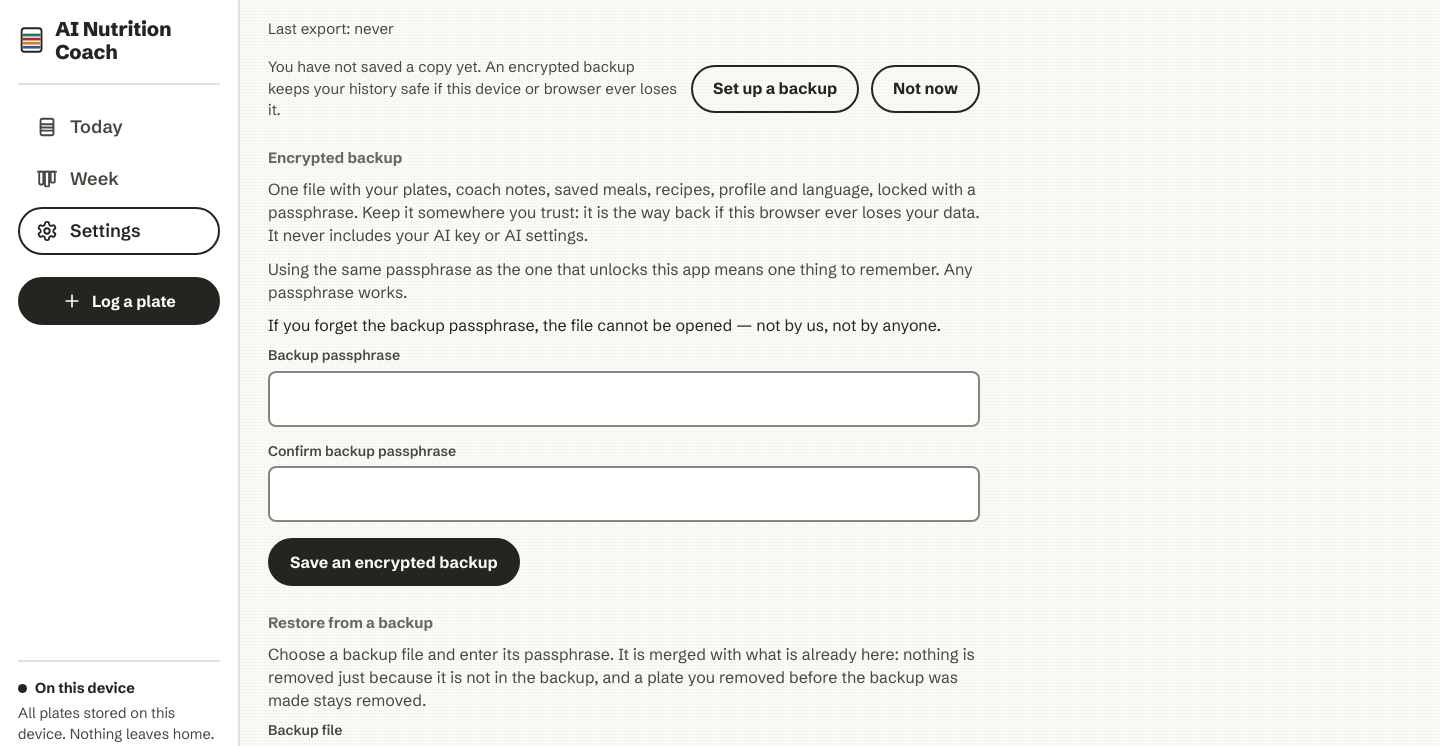
Your data: save an encrypted backup › a cipher that cannot run is one calm line
(page scrolled)
Clear the password field labelled "Backup passphrase" at (624, 399), box [270,373,978,425]
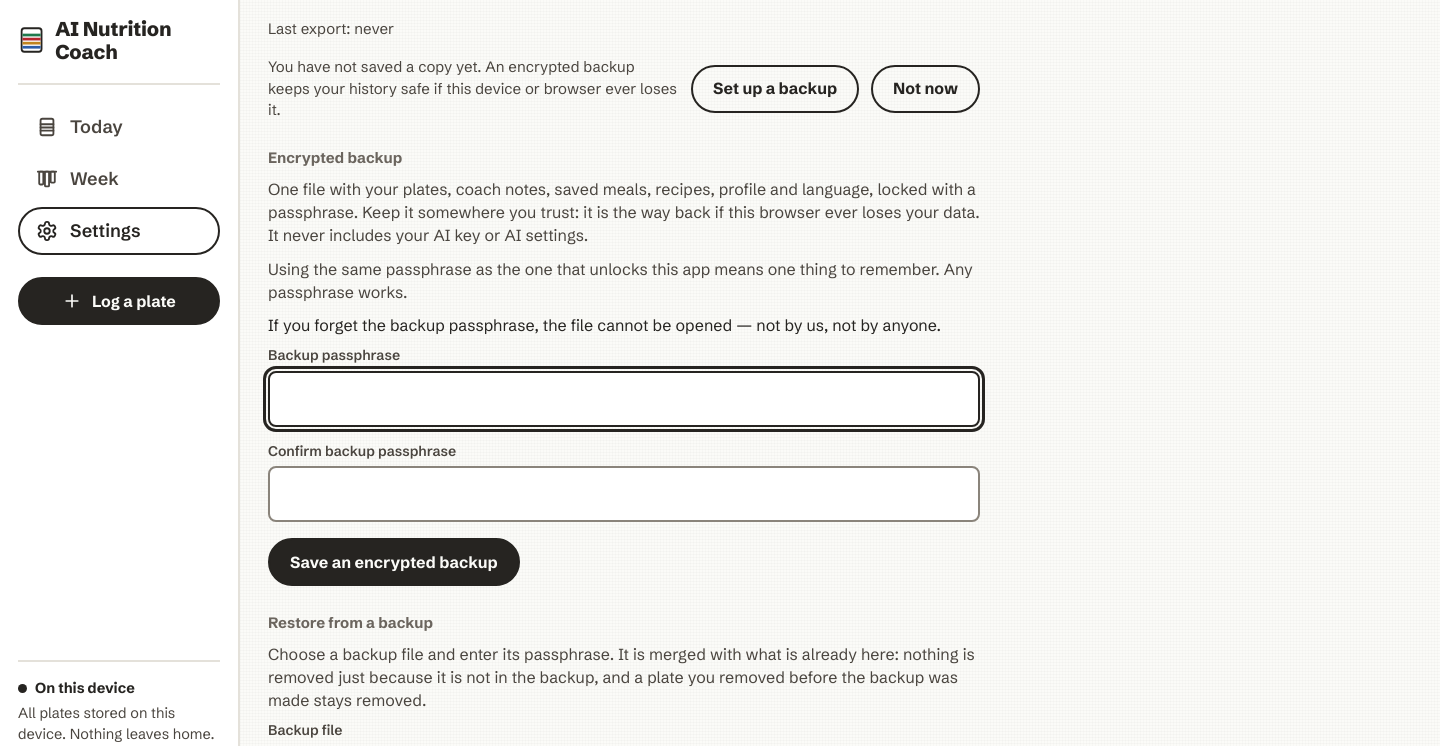
Clear the password field labelled "Confirm backup passphrase" at (624, 494), box [270,468,978,520]
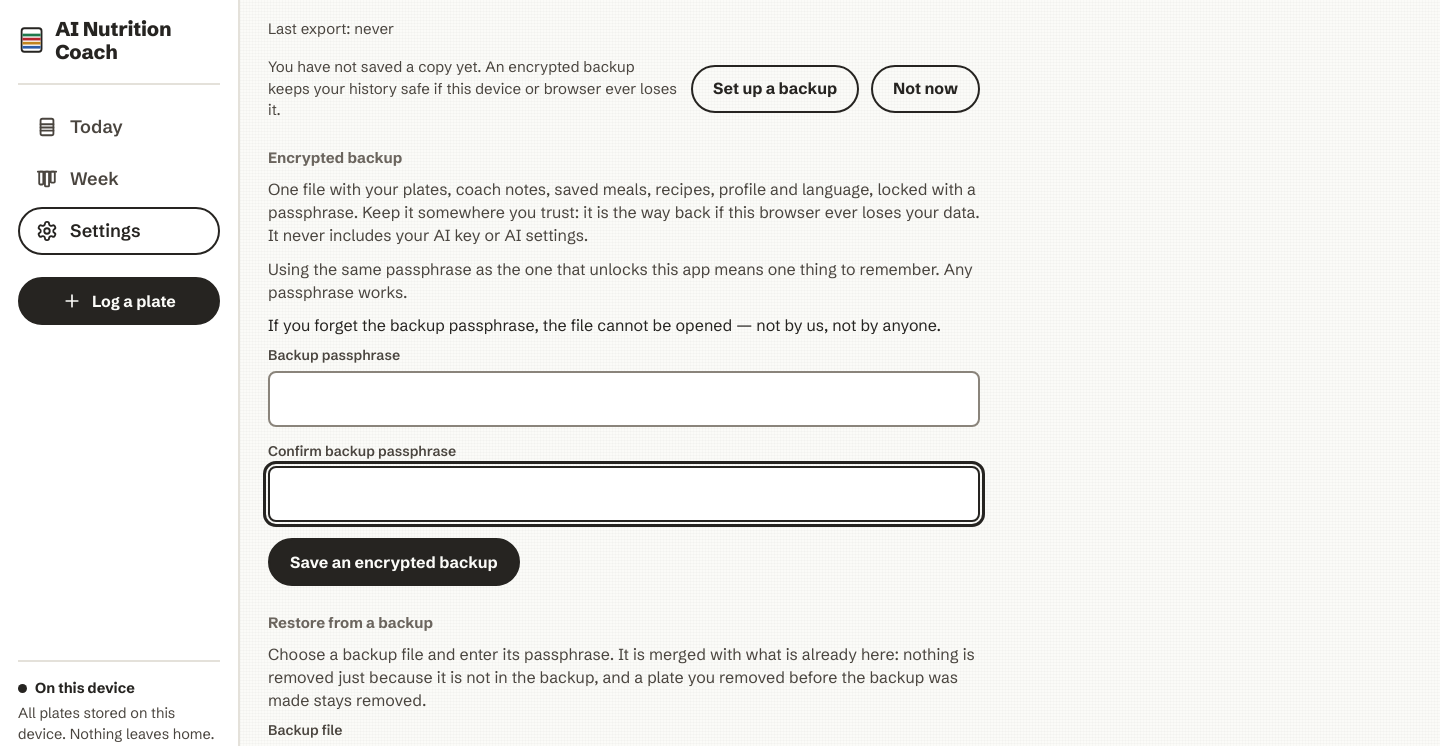
Type "a backup passphrase" into the password field labelled "Backup passphrase".
click(624, 399); type("a backup passphrase")  # box [270,373,978,425]
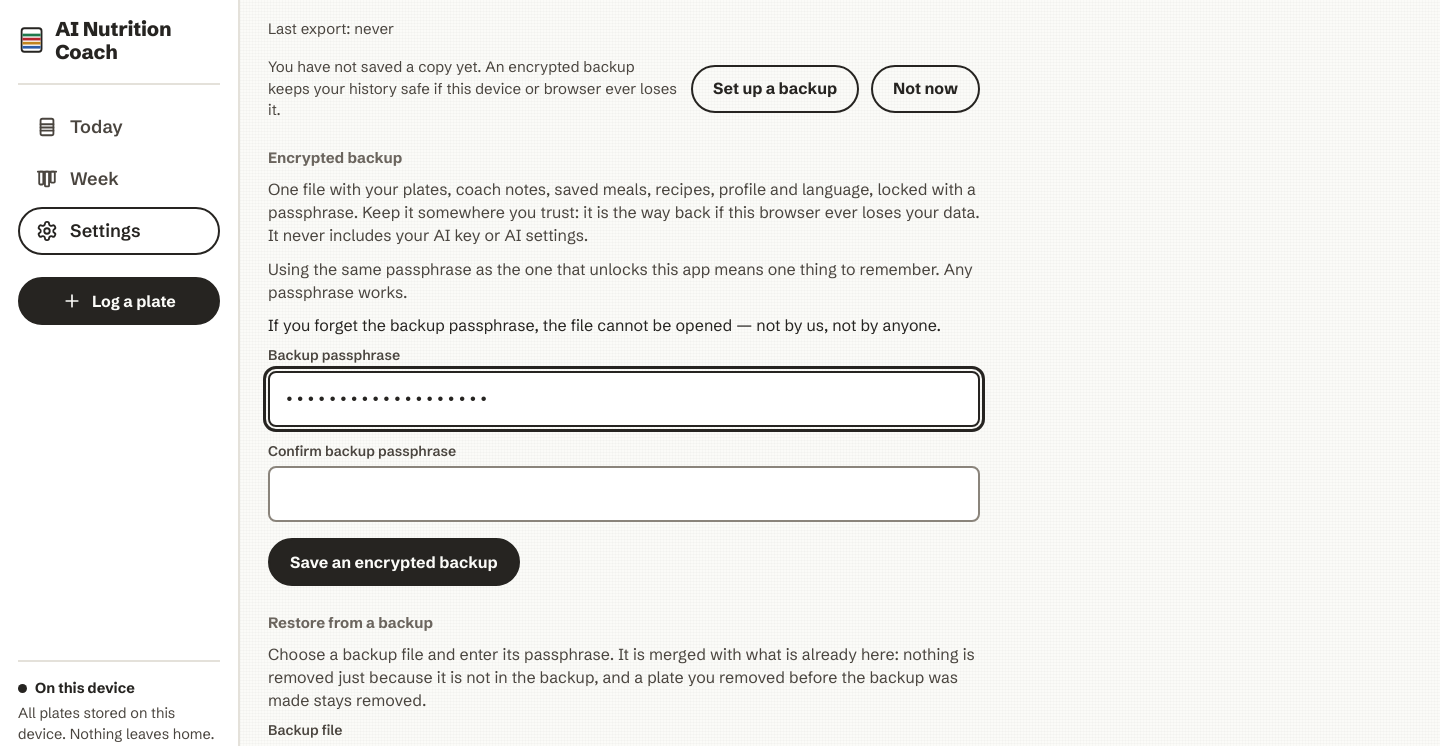
Type "a backup passphrase" into the password field labelled "Confirm backup passphrase".
click(624, 494); type("a backup passphrase")  # box [270,468,978,520]
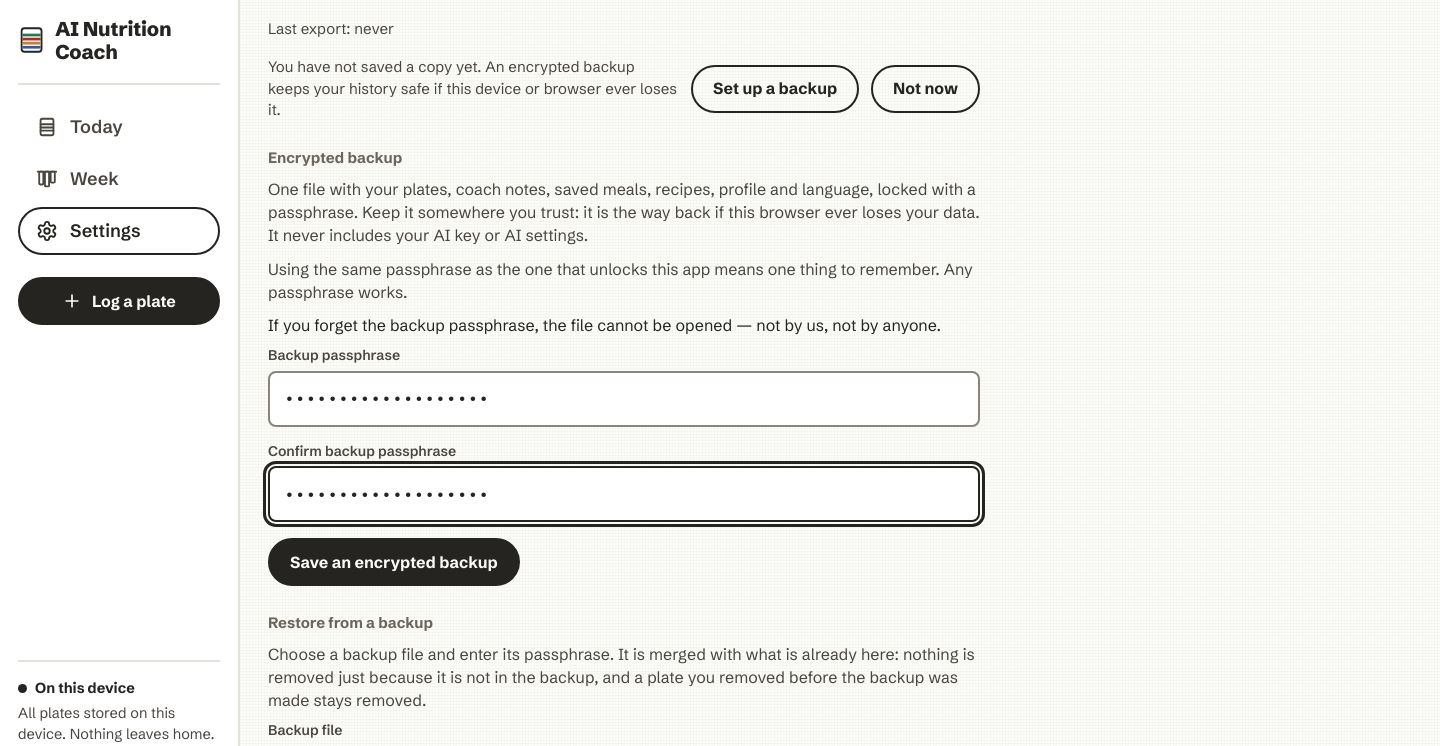
Click the button "Save an encrypted backup".
click(394, 562)  # box [268,538,520,586]
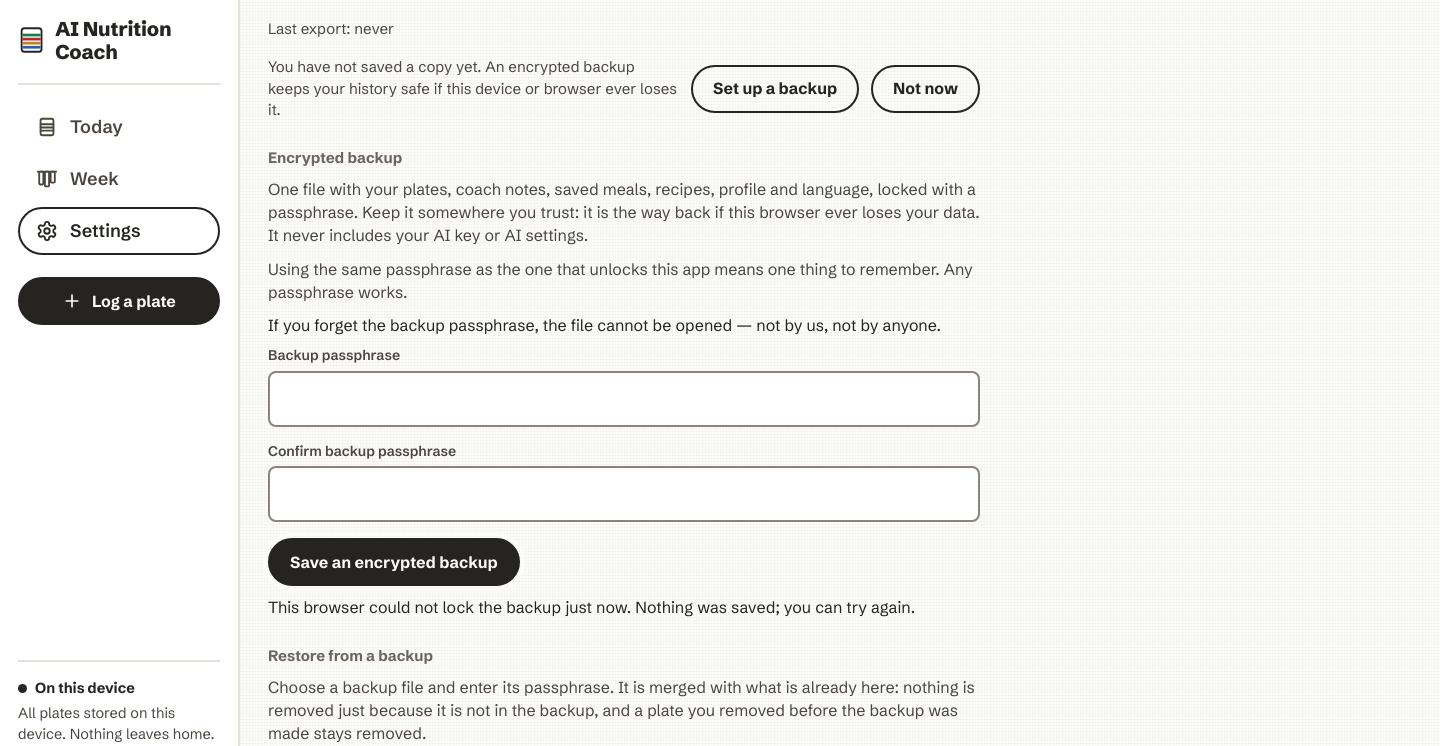
Expected: the text "could not lock the backup just now" is shown, [268,597,915,617]
